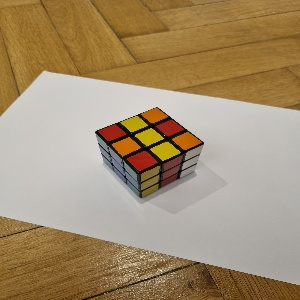cube: (94, 107, 206, 198)
